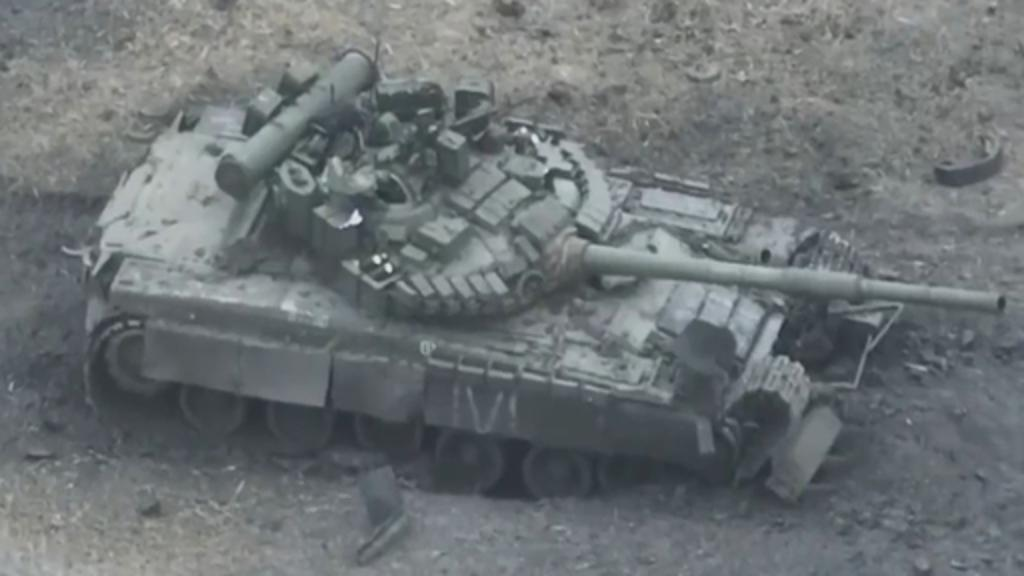TANK: (84, 42, 1008, 492)
